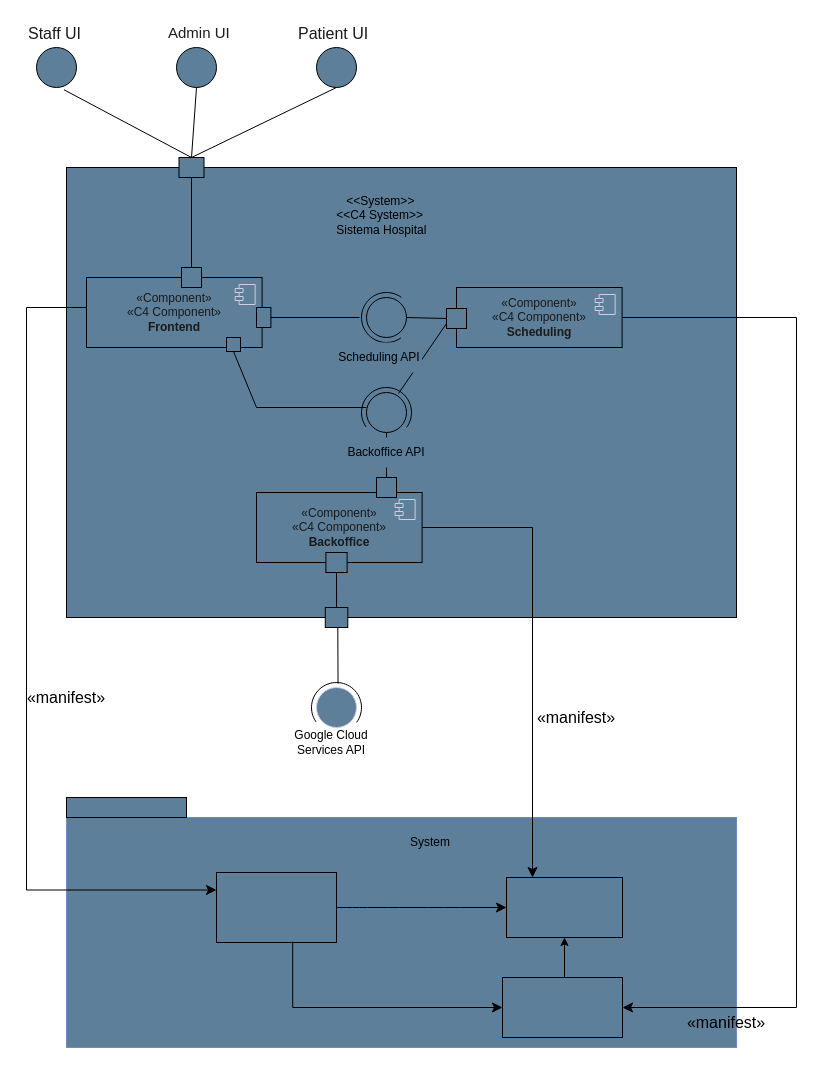
Image size: 824x1065. Some labels were removed from this diagram. The centre of each missing label's shape, as x and y in pixels:
"Backoffice" belongs at (564,907).
"Frontend" belongs at (276,907).
"Scheduling" belongs at (562,1007).
